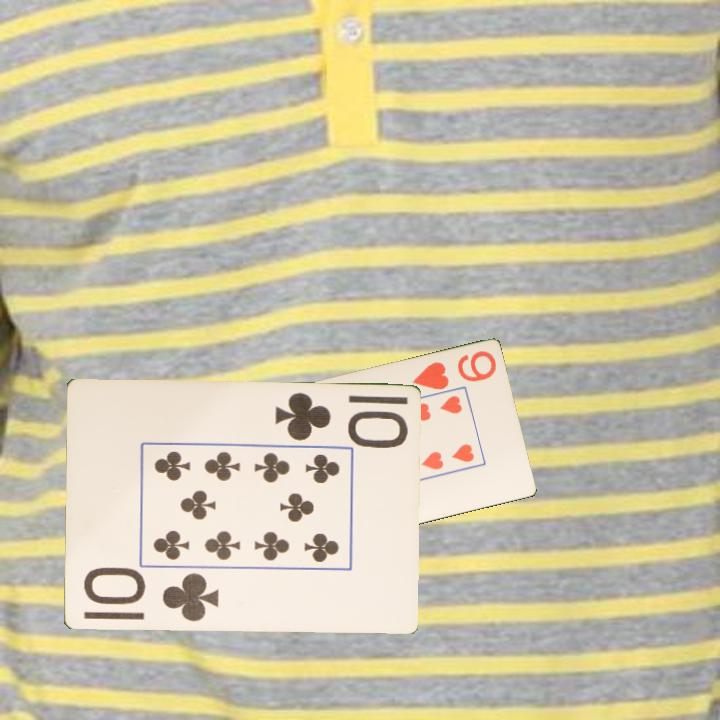10c: (80, 568, 221, 625), (271, 389, 411, 446)
9h: (409, 347, 499, 393)
